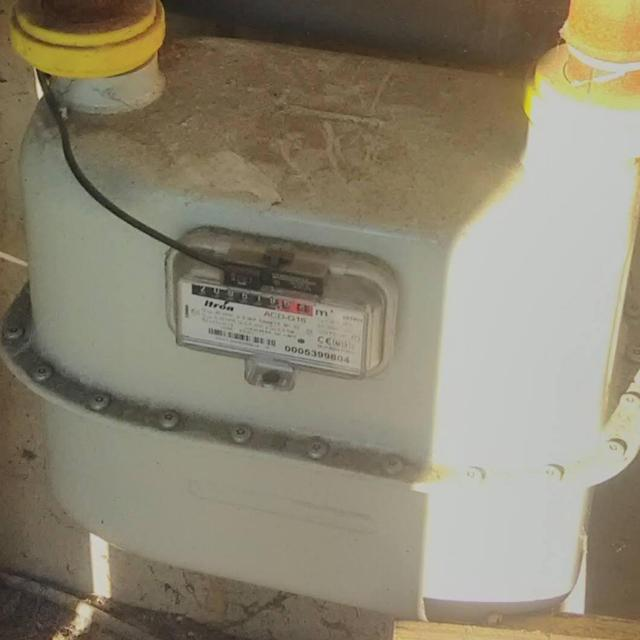gaz_meter: (173, 269, 370, 379)
indication: (191, 275, 316, 317)
